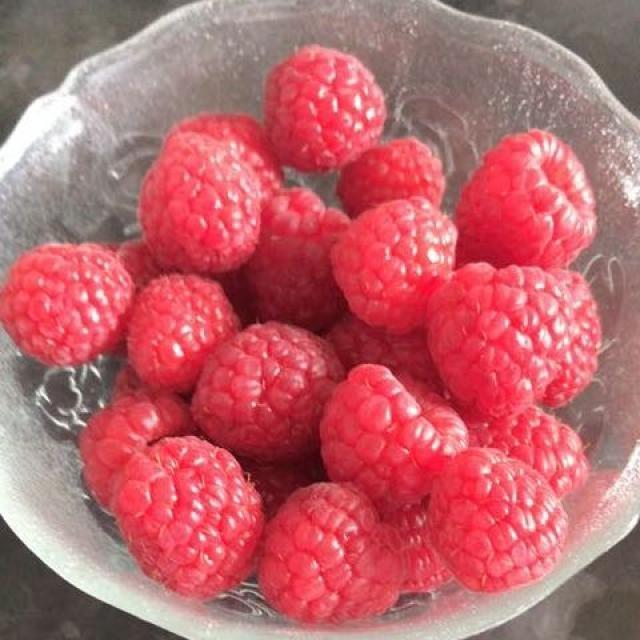raspberries: (14, 62, 589, 609)
